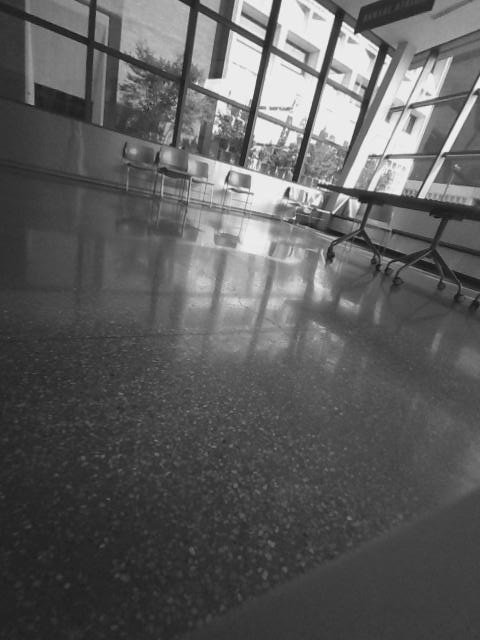ball: (194, 257, 253, 318)
